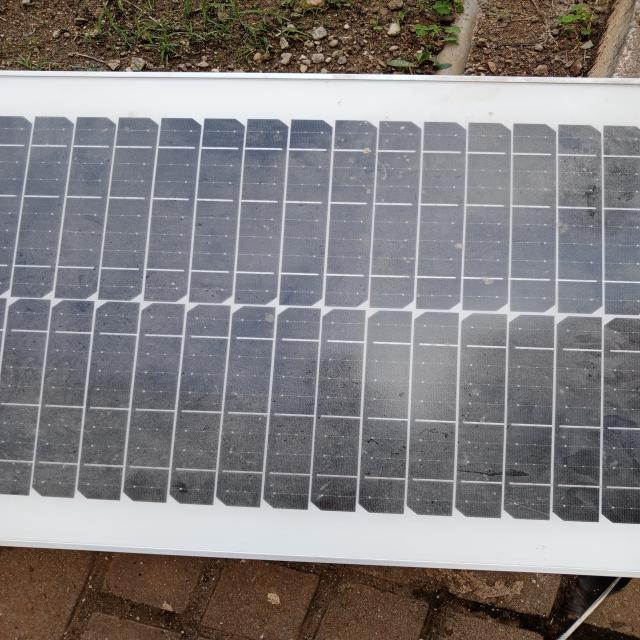Surface Contaminant: (21, 105, 636, 530)
